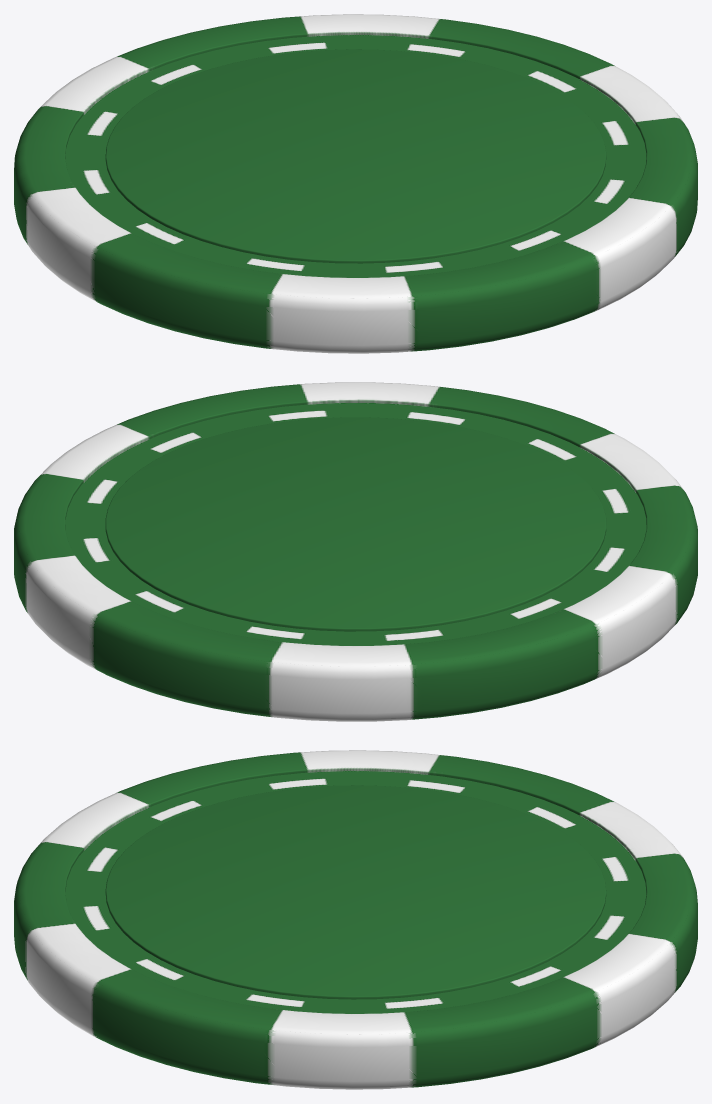
Rendered from green_white.glb.
The picture shows the model from 3 angles, top to bottom: view 1: azimuth 30°, elevation 25°; view 2: azimuth 150°, elevation 25°; view 3: azimuth 270°, elevation 25°; orthographic projection.
Visible parts, largest first — view 1: chips.471_chips_green_bake_0; view 2: chips.471_chips_green_bake_0; view 3: chips.471_chips_green_bake_0.
Part boxes in pixels (x1,y1,x2,y2): chips.471_chips_green_bake_0: [14, 14, 697, 353]; chips.471_chips_green_bake_0: [14, 382, 697, 721]; chips.471_chips_green_bake_0: [14, 750, 697, 1089].
Bounding box in the file's own units: 2 × 0.1882 × 2.
1 material, 1 textured.
